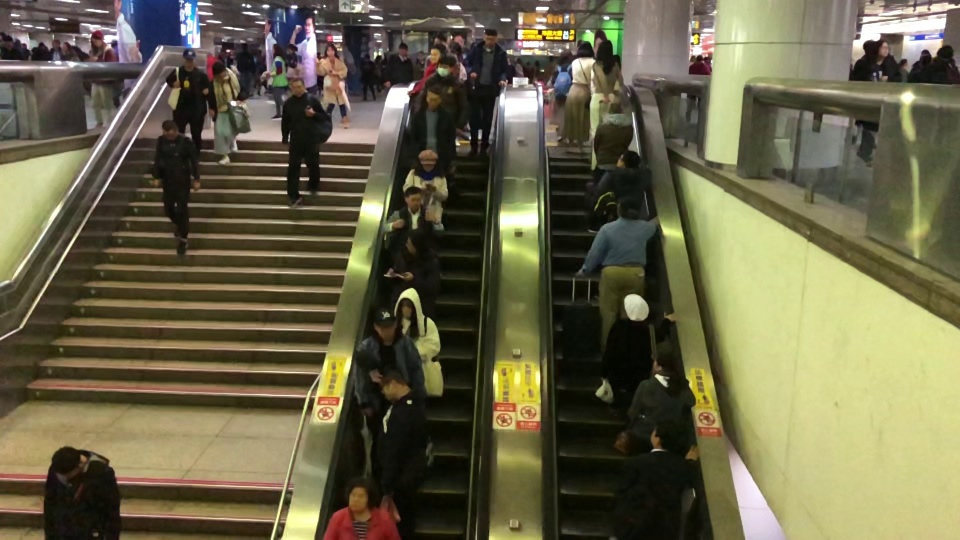person_head: (343, 476, 380, 513), (51, 446, 82, 478), (380, 365, 405, 401), (650, 421, 679, 446), (651, 350, 678, 374), (614, 196, 641, 219), (623, 300, 650, 321), (373, 316, 395, 341), (405, 228, 427, 251), (436, 54, 456, 76), (402, 186, 422, 208), (616, 150, 640, 168), (160, 119, 179, 139), (425, 86, 442, 107), (596, 40, 613, 57), (419, 153, 435, 170), (399, 296, 414, 314), (211, 61, 226, 78), (577, 41, 592, 57), (290, 77, 304, 94), (483, 28, 497, 45), (939, 45, 956, 59), (429, 45, 441, 63), (876, 38, 888, 56), (558, 48, 571, 61), (183, 53, 195, 67), (271, 42, 283, 55), (324, 43, 337, 55), (3, 35, 13, 49), (91, 33, 101, 46), (398, 42, 408, 55), (609, 103, 622, 113), (63, 41, 71, 52), (416, 51, 424, 61), (52, 39, 60, 48), (694, 55, 703, 61), (363, 53, 370, 60)
person_vbox: (582, 196, 660, 356), (614, 421, 705, 539), (597, 299, 680, 416), (368, 366, 435, 496), (43, 447, 122, 540), (151, 119, 202, 257), (280, 77, 332, 209), (627, 350, 698, 441), (854, 38, 901, 166), (464, 28, 509, 161), (354, 316, 425, 396), (321, 476, 399, 540), (589, 41, 623, 171), (165, 53, 210, 149), (386, 229, 441, 301), (593, 150, 648, 222), (208, 61, 243, 167), (419, 55, 471, 126), (410, 86, 457, 163), (563, 41, 593, 151), (401, 154, 448, 222), (85, 34, 118, 129), (594, 103, 633, 182), (315, 43, 350, 129), (398, 297, 442, 361), (383, 185, 422, 243), (264, 42, 287, 122), (551, 48, 571, 138), (407, 46, 441, 96), (383, 42, 413, 86), (926, 45, 959, 84), (688, 55, 711, 105), (358, 53, 378, 103), (2, 35, 22, 59), (413, 50, 425, 80), (48, 39, 63, 61), (62, 42, 78, 61)
